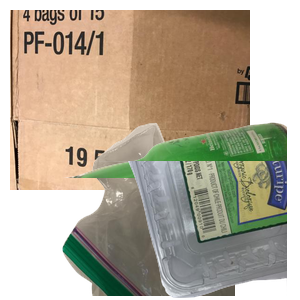cardboard: (10, 10, 250, 190)
glass: (60, 120, 300, 300)
plastic: (60, 161, 300, 300)
trash: (60, 120, 300, 300)
